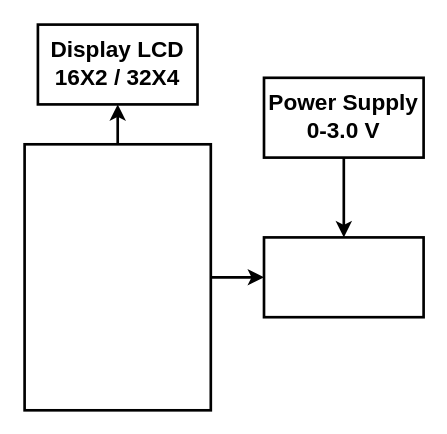
The diagram is 447 pixels wide and 434 high, and some of its shapes have lost their labels. Each missing label, with the centre of its shape:
"Microcontroller (Arduino Nano/ESP32)" goes at (x=117, y=276).
"Sensor Winsen ZE03" goes at (x=343, y=276).
